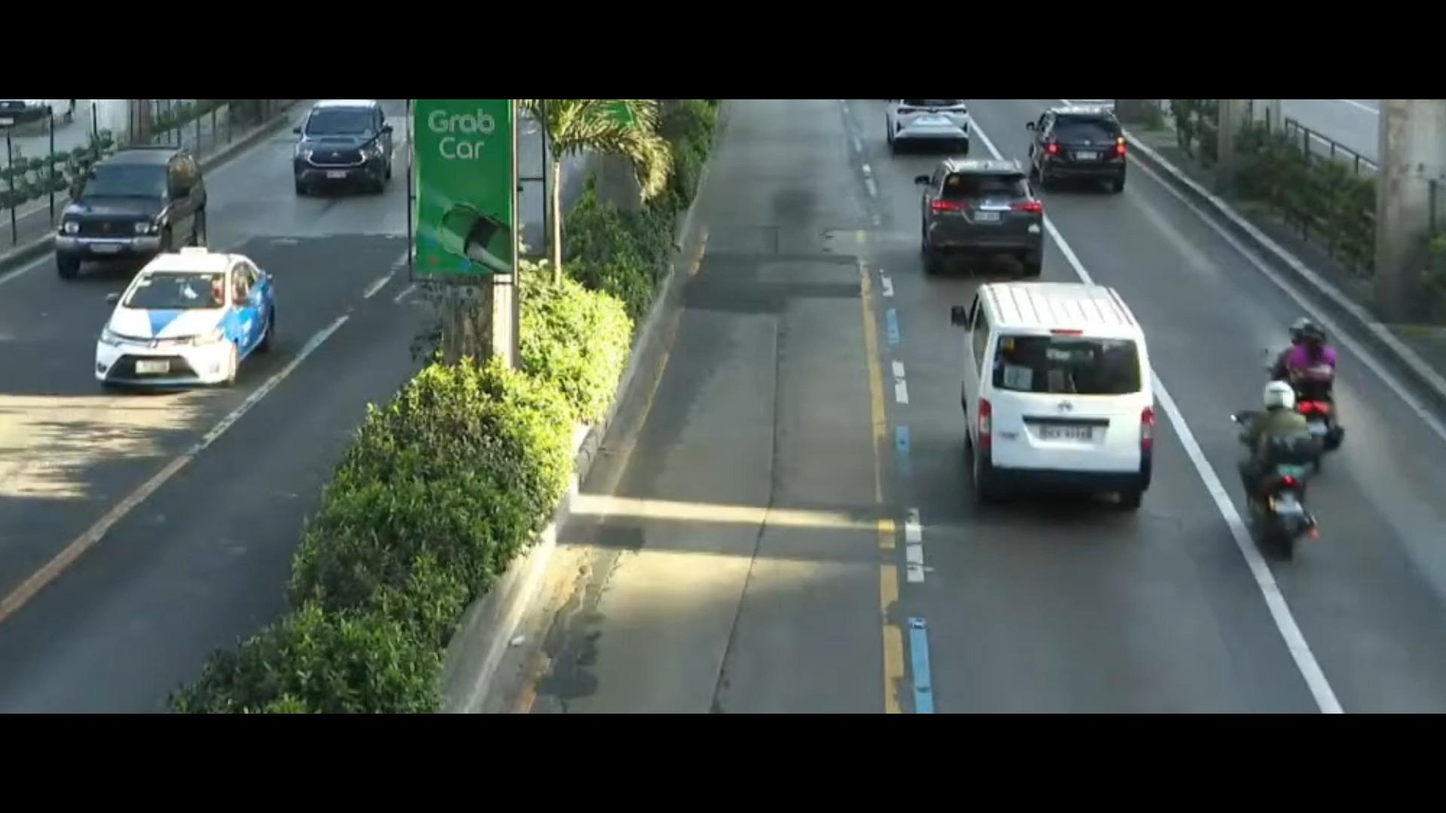Motorcycle: (1224, 373, 1326, 569), (1268, 292, 1364, 464)
SUV: (48, 136, 221, 279), (900, 147, 1055, 280), (271, 106, 400, 209), (1022, 96, 1143, 191), (878, 107, 974, 155)
Sedan: (72, 249, 283, 396)
Van: (930, 254, 1186, 538)
